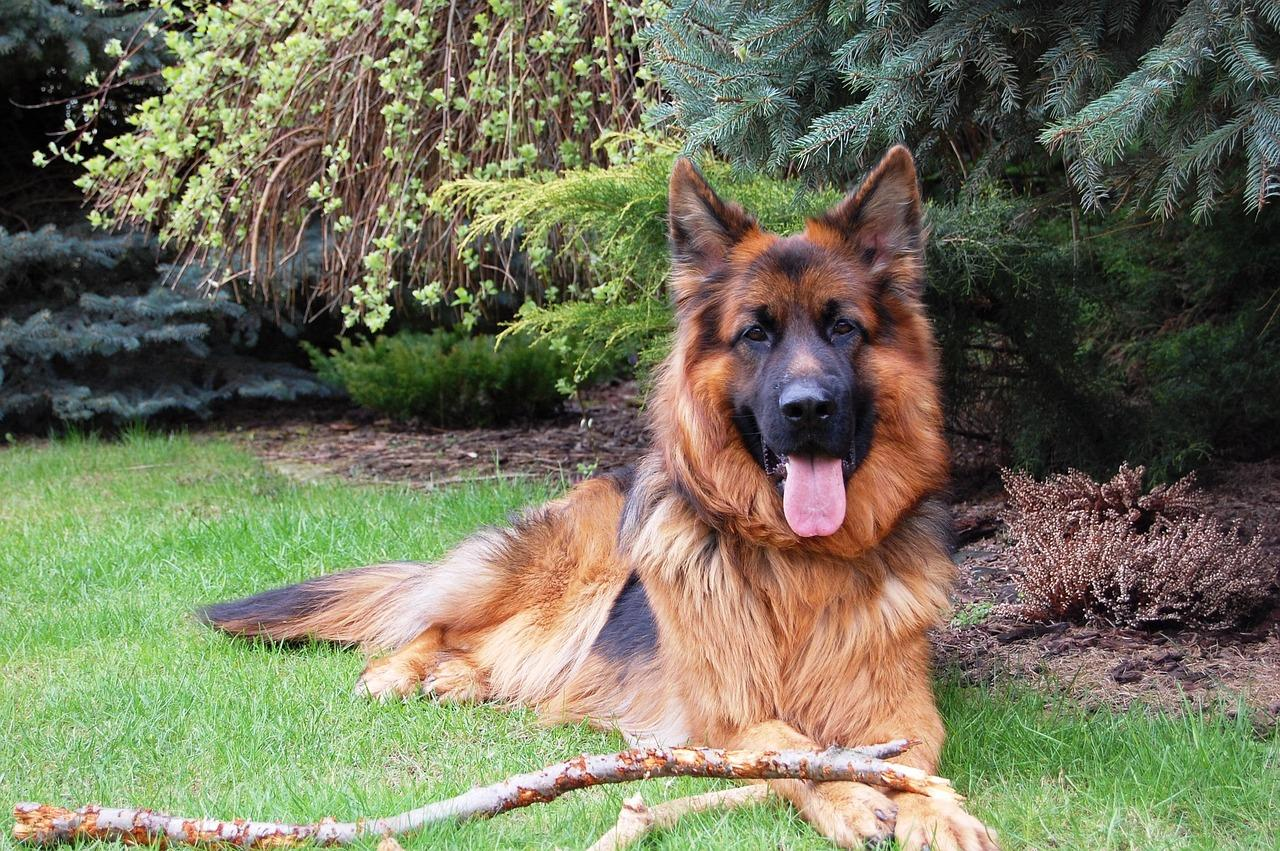german_shepherd: (673, 183, 937, 554)
